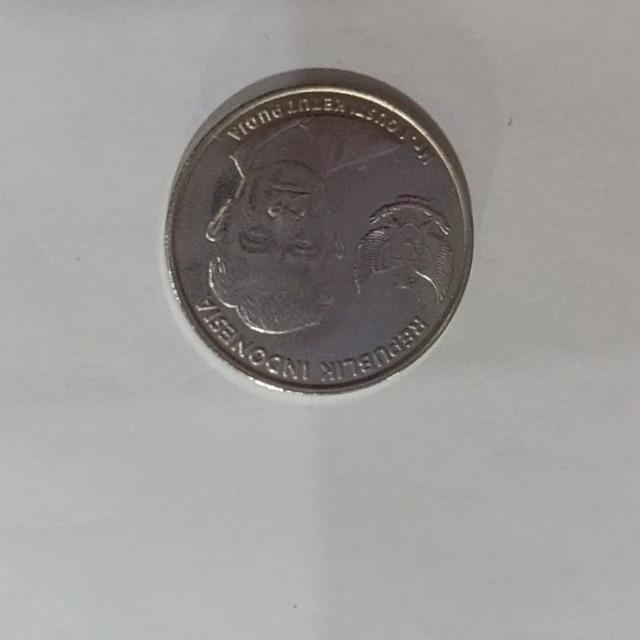Rp100: (161, 66, 476, 397)
